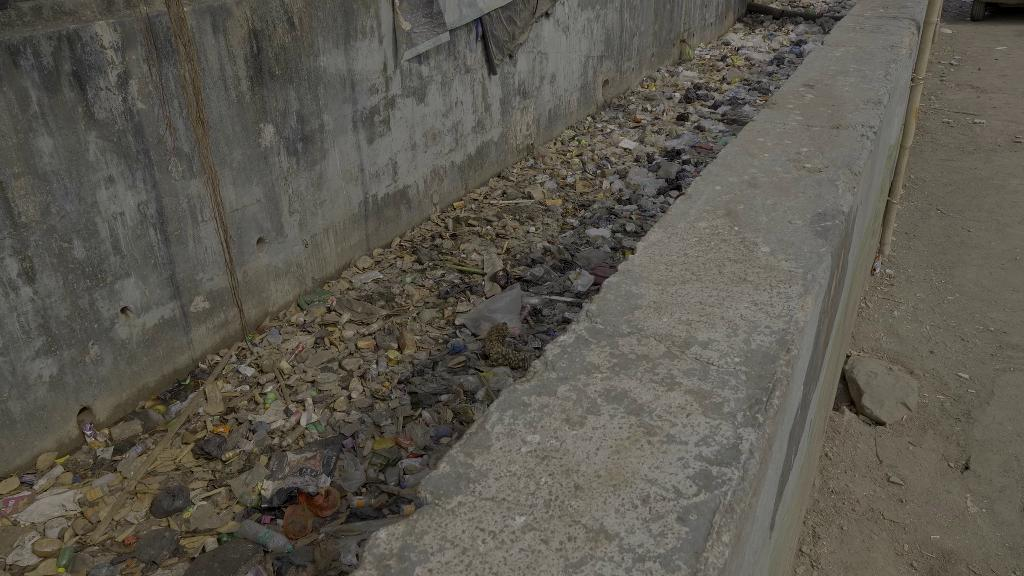garbage: (463, 282, 523, 338), (240, 518, 296, 556), (150, 478, 192, 517), (188, 429, 229, 463), (337, 448, 367, 492), (564, 267, 598, 296), (78, 483, 109, 505), (680, 80, 708, 104), (351, 266, 383, 286), (120, 441, 147, 461), (285, 341, 306, 364), (662, 134, 690, 151), (584, 225, 612, 241), (656, 162, 681, 178), (399, 272, 420, 289), (364, 320, 384, 336), (306, 419, 325, 435), (94, 427, 111, 443), (262, 391, 275, 410), (83, 423, 94, 445)
